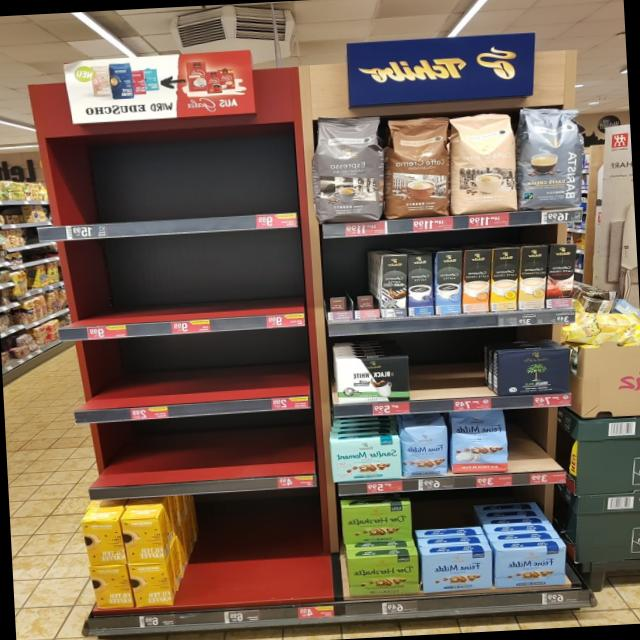BM Gemahlen: (494, 347, 574, 397)
BW Gemahlen: (332, 355, 412, 407)
Barista CC: (513, 102, 591, 212)
CC Mild: (446, 113, 520, 215)
CC Vollmundig 36 Pads: (382, 114, 452, 221)
Empty Shelf: (410, 331, 490, 397), (508, 408, 567, 473)
Espresso M Art: (306, 113, 388, 225)
FM 36 Pads: (448, 411, 509, 476)
FM Bohne: (398, 424, 452, 478)
FM Gemahlen: (419, 548, 496, 594), (493, 544, 570, 590)
Herzhatfe Mundig: (346, 553, 420, 598)
SM Gemahlen: (328, 433, 402, 484)
Simo CC Colombia: (544, 244, 580, 308)
Simo CCMild bigpack: (488, 246, 524, 312)
Simo CCVollmundig bigpack: (462, 249, 494, 314)
Simo Decaff: (516, 246, 552, 311)
Simo Es Elegant: (379, 254, 409, 318)
Simo Es Kraft: (406, 252, 435, 316)
Simo Es Vanilla: (433, 250, 464, 315)
